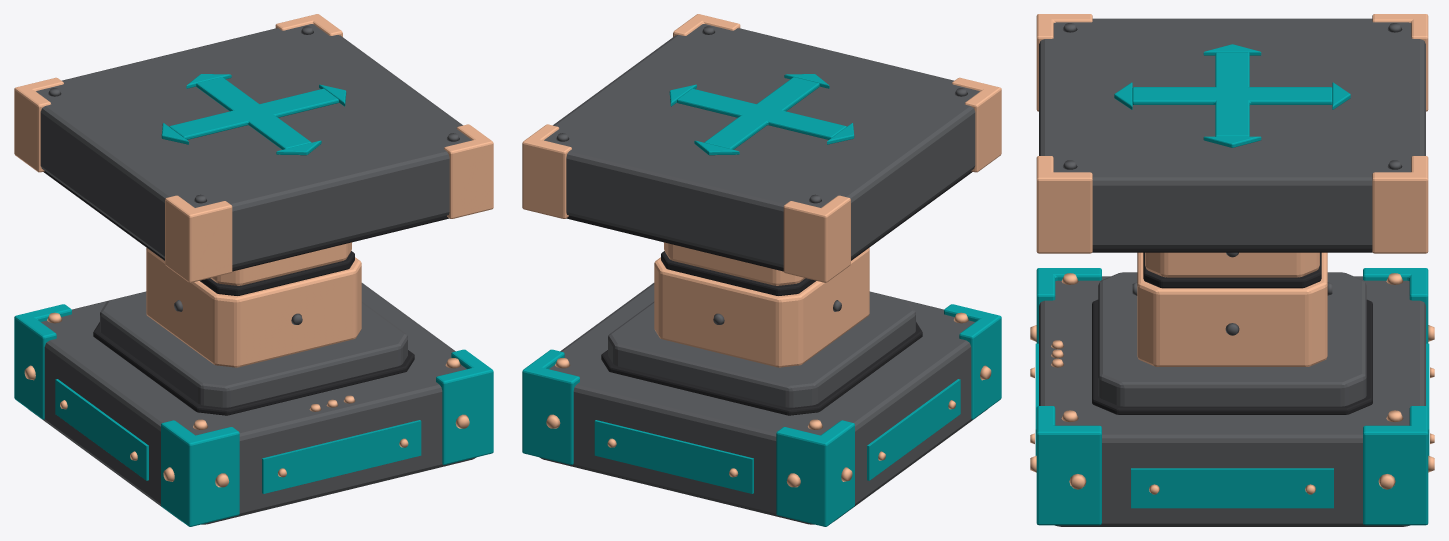
The model's file is piston_3.glb.
3 views of the same model, side by side, from view 1: azimuth 30°, elevation 25°; view 2: azimuth 150°, elevation 25°; view 3: azimuth 270°, elevation 25° (orthographic). The views are drawn at different scales.
Visible parts, largest first — view 1: Base, head; view 2: Base, head; view 3: Base, head.
Part boxes in pixels (<box>): Base: <box>14,248,493,526</box>; head: <box>14,14,493,285</box>; Base: <box>522,248,1001,526</box>; head: <box>522,14,1001,285</box>; Base: <box>1030,252,1434,526</box>; head: <box>1036,14,1428,277</box>.
Bounding box in the file's own units: 0.259 × 0.2505 × 0.259.
